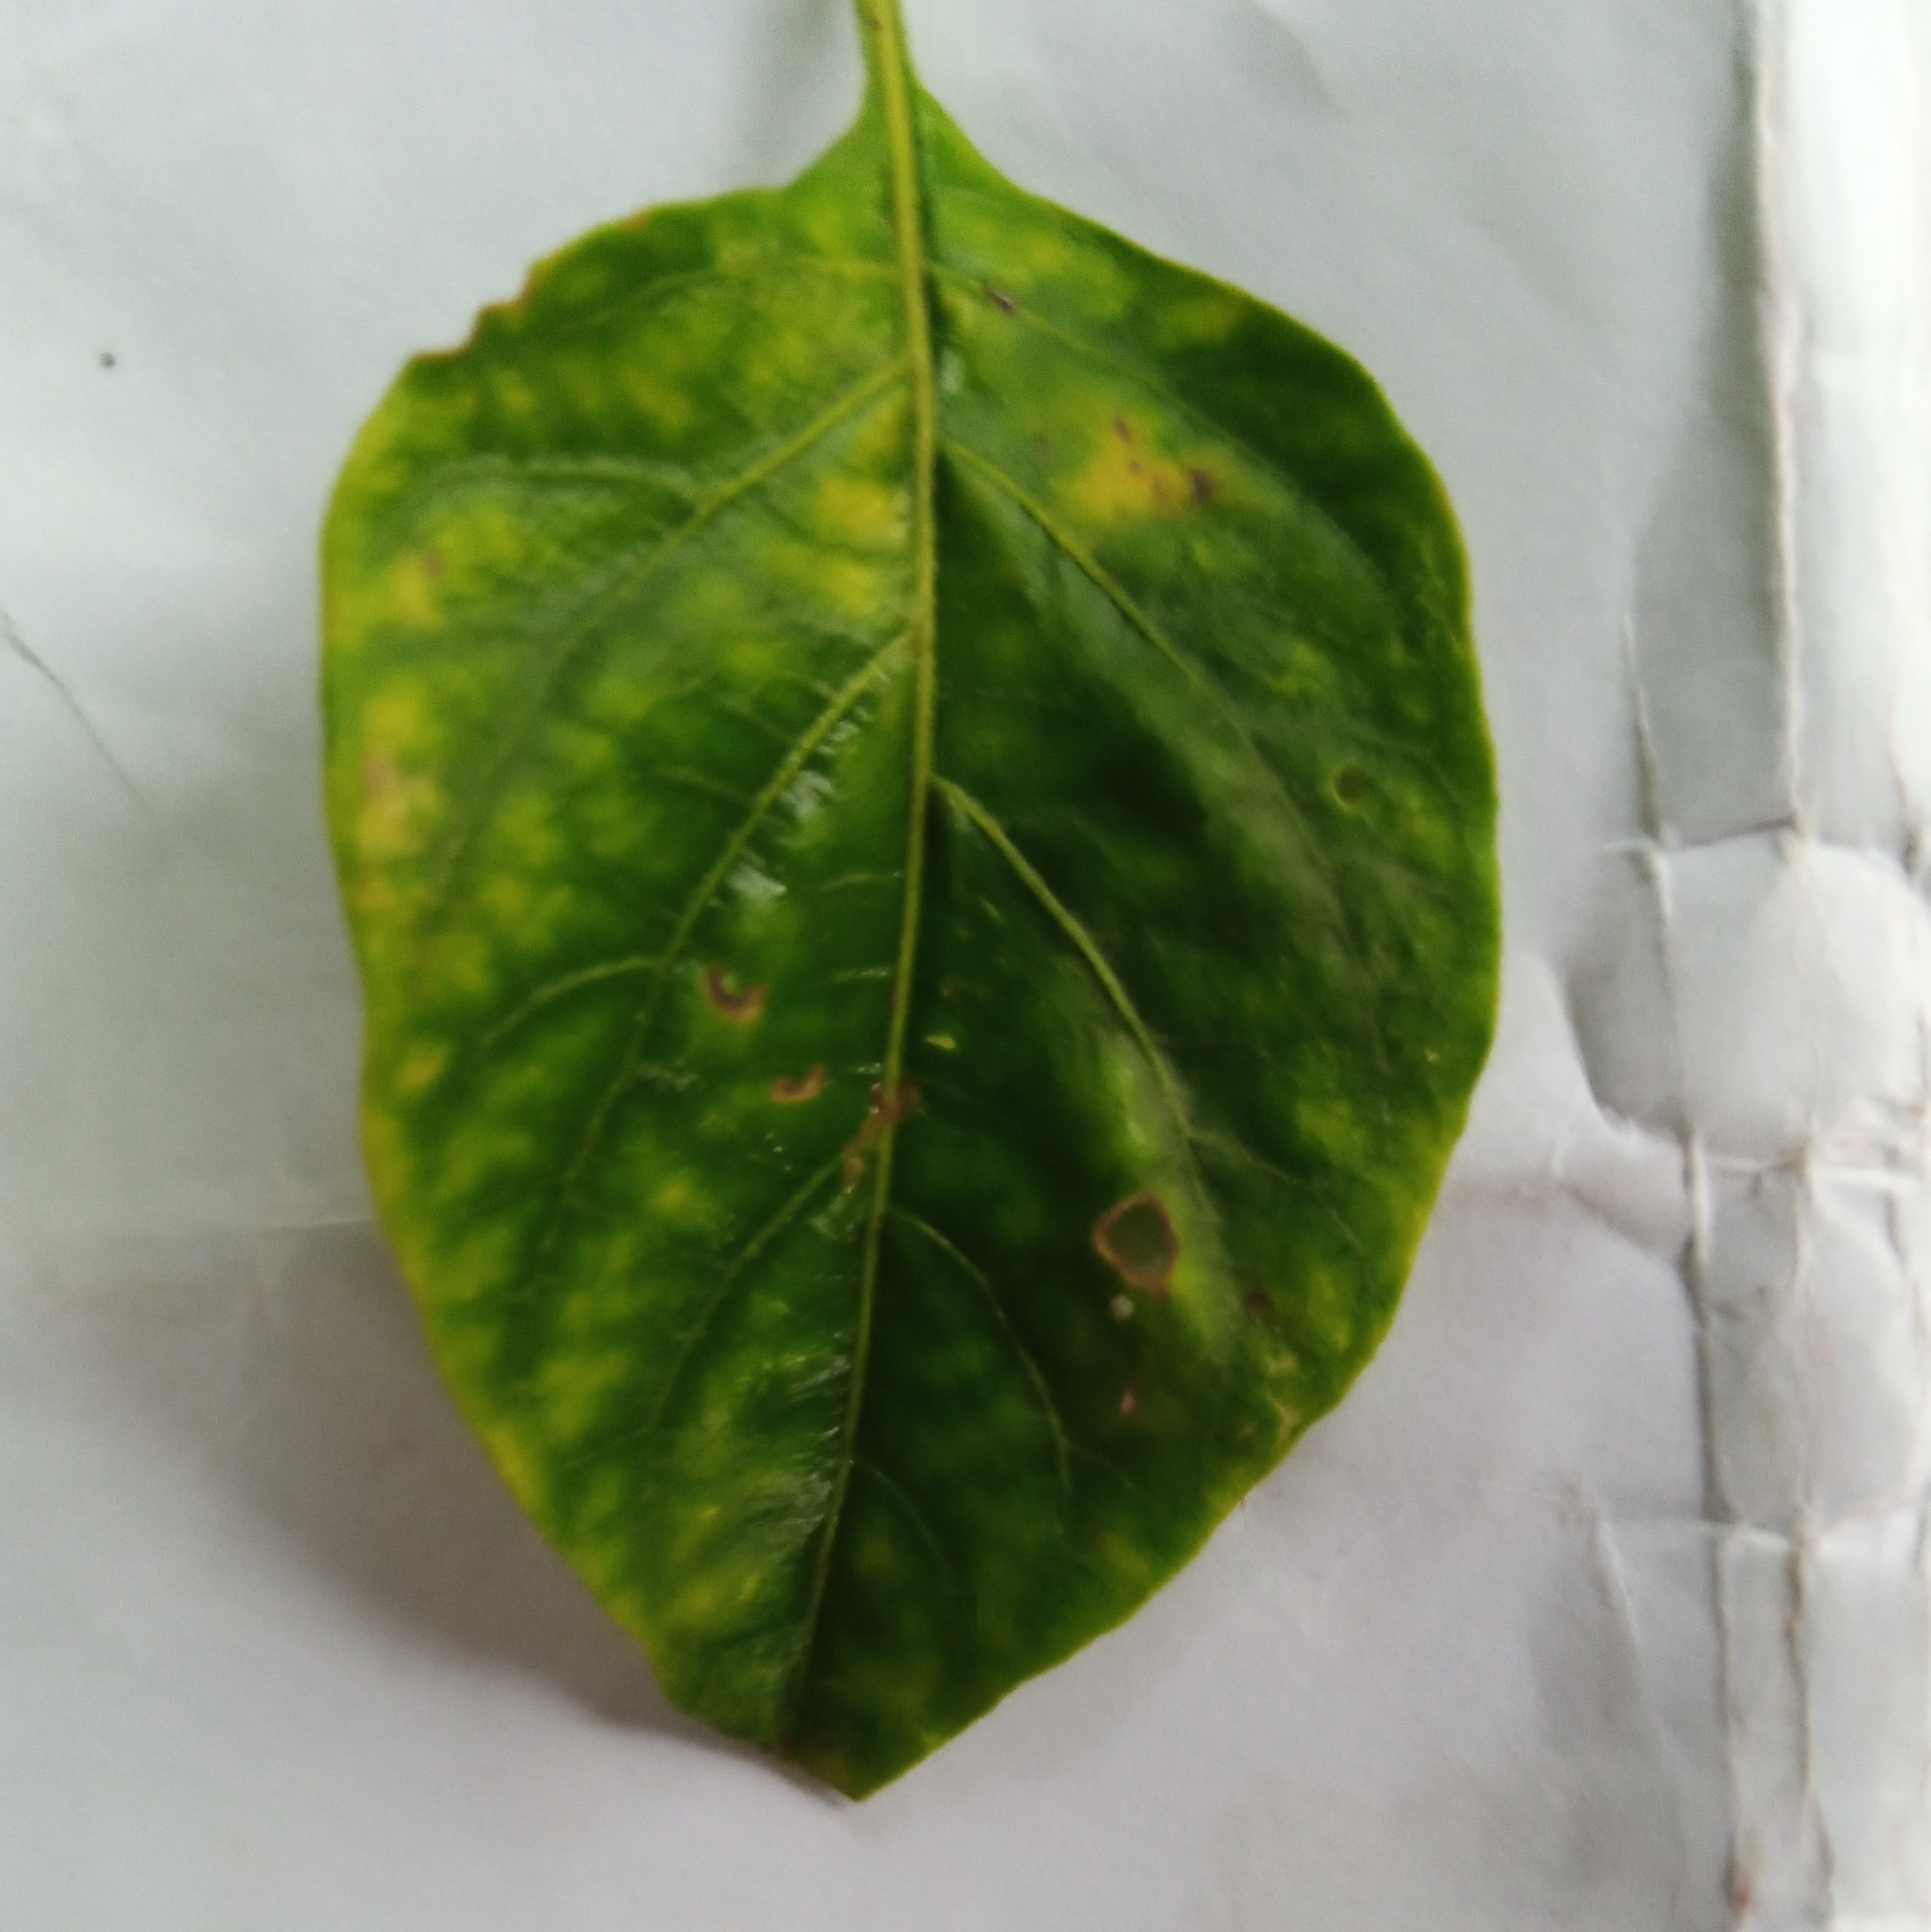Leaf: (228, 73, 1576, 1932)
